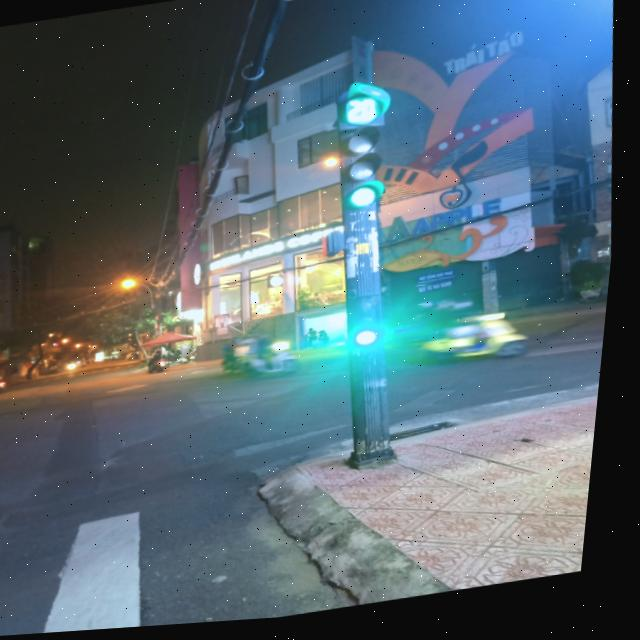Green: (335, 128, 395, 217), (353, 289, 397, 361)
